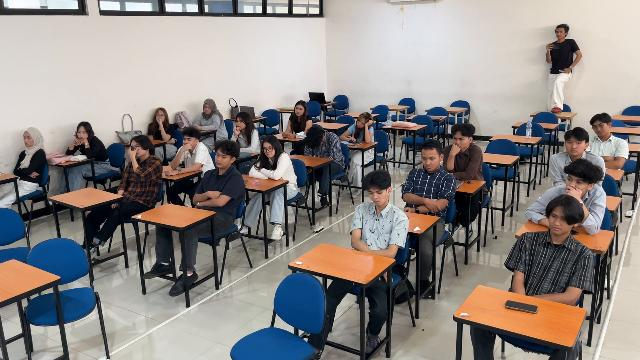bingung: (549, 212, 571, 235), (565, 138, 584, 155), (367, 189, 387, 205), (421, 152, 436, 171), (566, 173, 585, 188), (215, 151, 230, 167), (591, 123, 608, 136), (453, 135, 466, 149), (262, 142, 274, 157), (23, 133, 32, 147), (77, 128, 87, 139), (183, 135, 194, 145), (236, 117, 246, 128), (294, 105, 304, 116), (155, 112, 165, 121), (356, 119, 365, 128), (203, 106, 211, 114)
